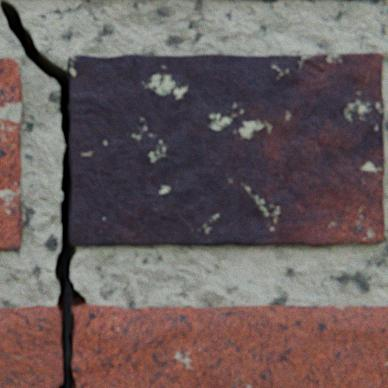brick: (67, 53, 383, 245), (0, 59, 22, 248)
broken_brick: (71, 304, 387, 387), (0, 305, 63, 387)
crack: (0, 0, 86, 387)
